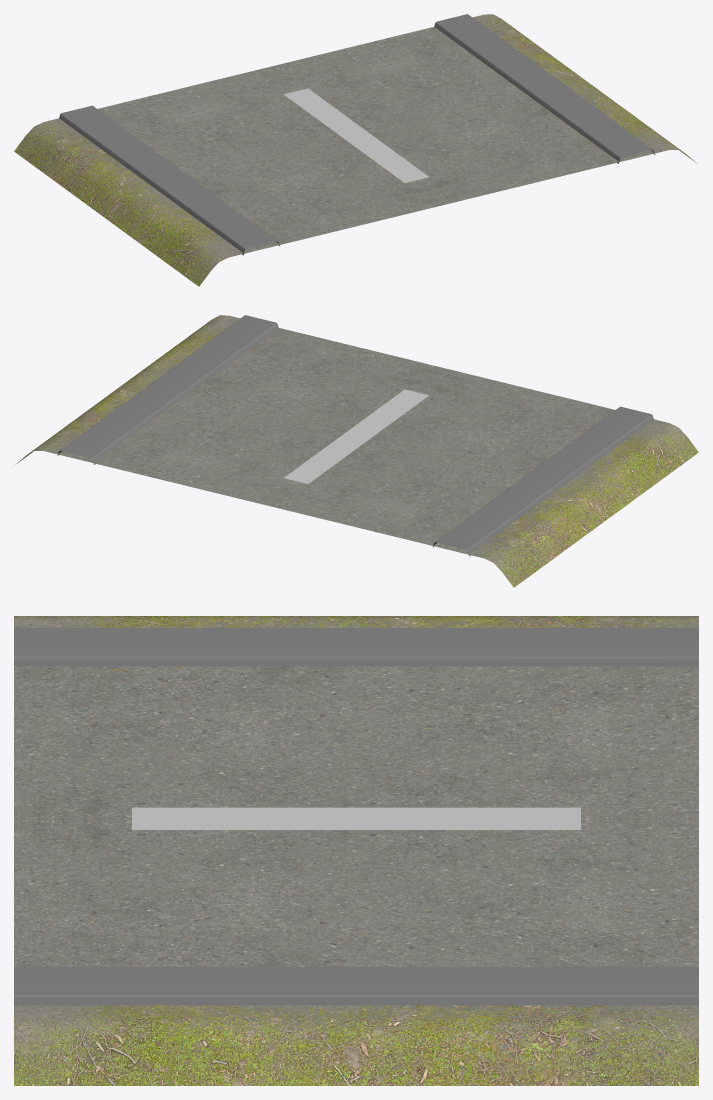
File: SM_road_modular_01.fbx
3 views of the same model, one above another, from view 1: azimuth 30°, elevation 25°; view 2: azimuth 150°, elevation 25°; view 3: azimuth 270°, elevation 25° (orthographic). The views are drawn at different scales.
Parts seen in each view (by area): view 1: Plane003; view 2: Plane003; view 3: Plane003.
Part boxes in pixels (<box>): Plane003: <box>14,14,697,286</box>; Plane003: <box>15,315,698,587</box>; Plane003: <box>14,616,698,1085</box>.
Size of the model in its own units: 184 by 9.41 by 118.
